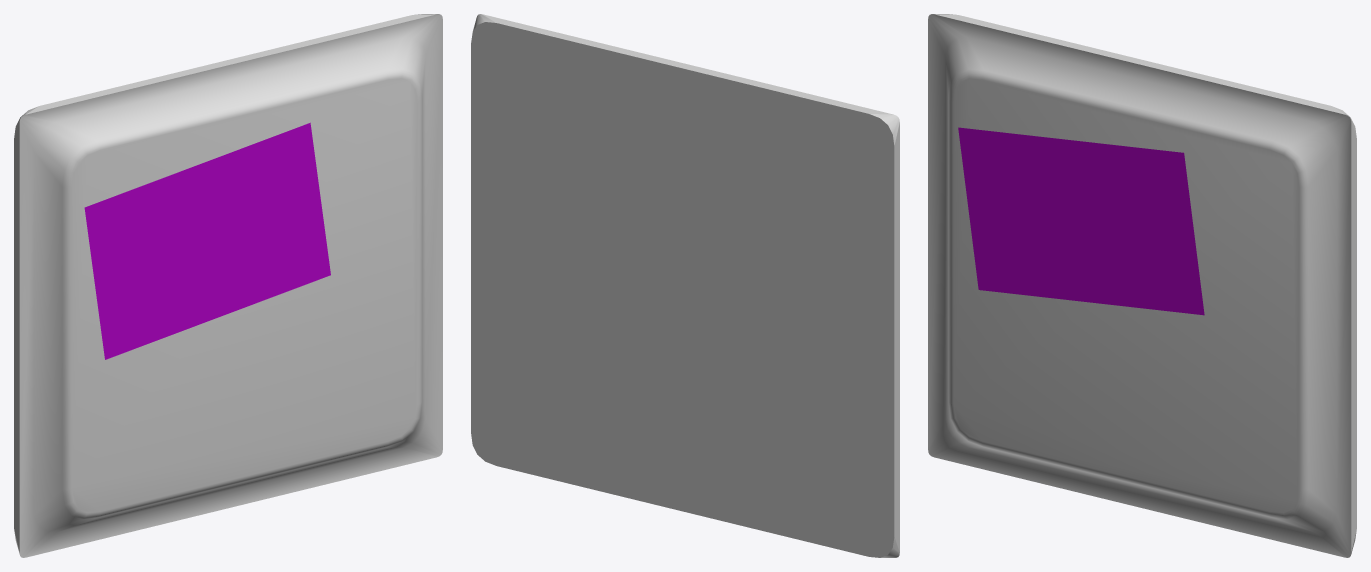
The model's file is tight_pannel2.fbx.
3 views of the same model, side by side, from view 1: azimuth 30°, elevation 25°; view 2: azimuth 150°, elevation 25°; view 3: azimuth 330°, elevation 25° (orthographic).
Visible parts, largest first — view 1: Box025; view 2: Box025; view 3: Box025.
Part boxes in pixels (left/top/right/bottom): Box025: left=14, top=14, right=442, bottom=557; Box025: left=471, top=14, right=899, bottom=557; Box025: left=928, top=14, right=1356, bottom=557.
Size of the model in its own units: 3.5 by 3.5 by 0.3293.
